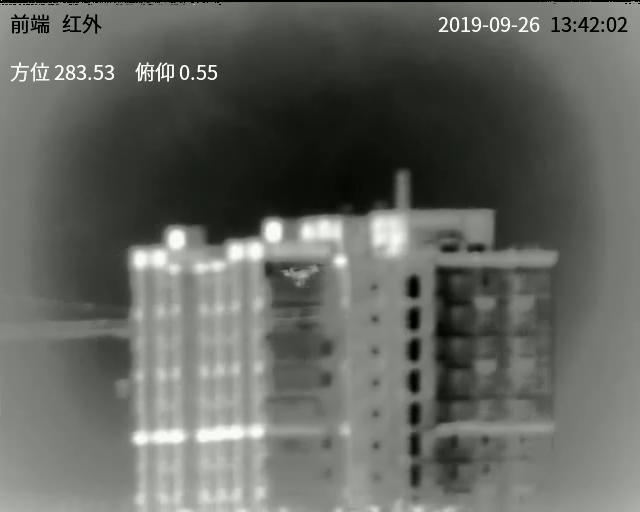uav: (279, 262, 323, 289)
